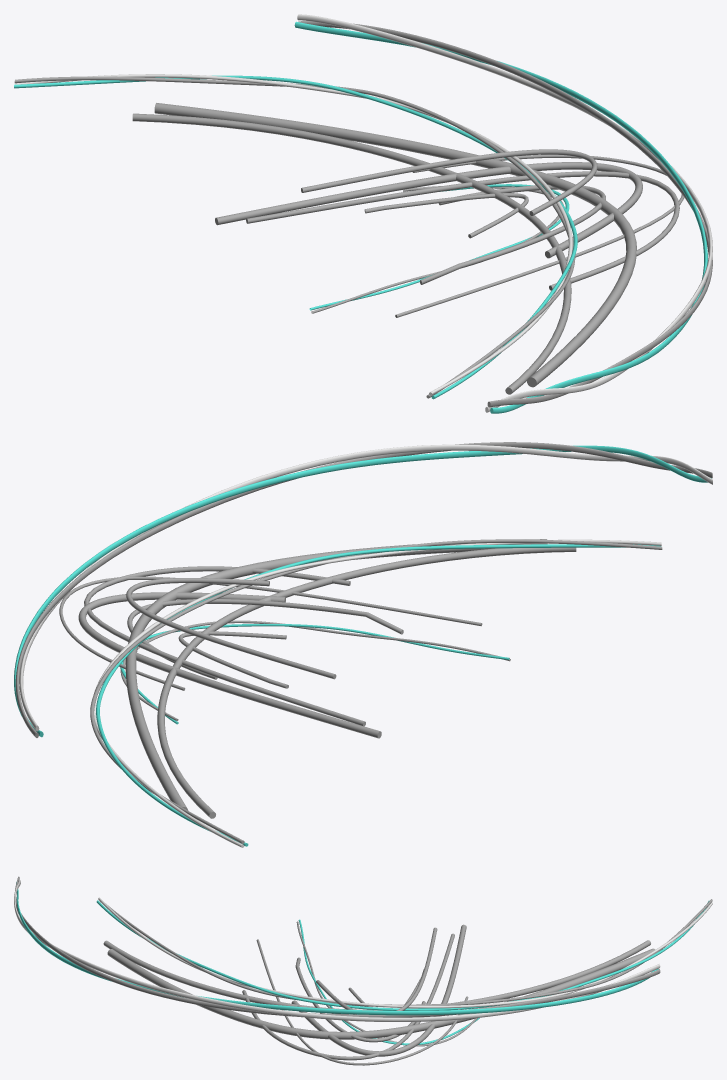
The model's file is A bunch of cables.fbx.
3 views of the same model, one above another, from view 1: azimuth 30°, elevation 25°; view 2: azimuth 150°, elevation 25°; view 3: azimuth 270°, elevation 25° (orthographic). The views are drawn at different scales.
Visible parts, largest first — view 1: pCylinder75, pCylinder73, pCylinder79, pCylinder76, pCylinder56, pCylinder55, pCylinder60, pCylinder67, pCylinder66, pCylinder65, pCylinder54; view 2: pCylinder75, pCylinder73, pCylinder76, pCylinder79, pCylinder56, pCylinder55, pCylinder65, pCylinder60, pCylinder67, pCylinder66, pCylinder54; view 3: pCylinder75, pCylinder73, pCylinder79, pCylinder76, pCylinder56, pCylinder55, pCylinder65, pCylinder67, pCylinder60, pCylinder66.
Part boxes in pixels (x1,y1,x2,y2): pCylinder75: [294, 14, 712, 413]; pCylinder73: [14, 74, 577, 399]; pCylinder79: [154, 103, 636, 387]; pCylinder76: [132, 113, 571, 394]; pCylinder56: [215, 162, 642, 258]; pCylinder55: [246, 171, 679, 290]; pCylinder60: [301, 149, 597, 215]; pCylinder67: [395, 154, 684, 317]; pCylinder66: [420, 184, 605, 284]; pCylinder65: [309, 184, 569, 313]; pCylinder54: [364, 193, 528, 238]; pCylinder75: [14, 442, 712, 737]; pCylinder73: [90, 539, 662, 847]; pCylinder76: [157, 547, 576, 818]; pCylinder79: [125, 539, 547, 810]; pCylinder56: [78, 592, 381, 738]; pCylinder55: [84, 566, 365, 726]; pCylinder65: [120, 620, 510, 724]; pCylinder60: [126, 578, 336, 679]; pCylinder67: [59, 576, 482, 690]; pCylinder66: [127, 599, 403, 679]; pCylinder54: [178, 631, 288, 688]; pCylinder75: [14, 876, 660, 1021]; pCylinder73: [96, 897, 712, 1010]; pCylinder79: [107, 948, 655, 1039]; pCylinder76: [103, 940, 650, 1014]; pCylinder56: [291, 924, 466, 1056]; pCylinder55: [242, 933, 454, 1060]; pCylinder65: [296, 919, 479, 1046]; pCylinder67: [256, 939, 468, 1065]; pCylinder60: [316, 927, 437, 1014]; pCylinder66: [295, 957, 425, 1042].
Bounding box in the file's own units: 383 × 73.67 × 745.
